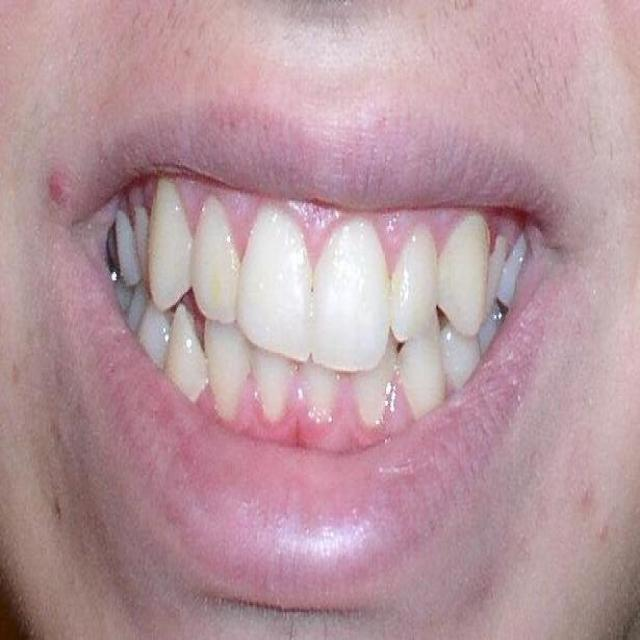tooth: (316, 216, 390, 363), (233, 216, 312, 348), (188, 196, 238, 330), (392, 229, 442, 332), (443, 225, 490, 332), (398, 330, 452, 419), (149, 188, 192, 299), (208, 320, 254, 411), (250, 350, 301, 430), (169, 309, 206, 409), (444, 325, 492, 393), (355, 342, 393, 422), (302, 365, 344, 427), (118, 216, 148, 290), (479, 232, 508, 308), (142, 313, 170, 376), (474, 310, 502, 358), (130, 204, 149, 274), (500, 239, 520, 297), (120, 290, 144, 328)
